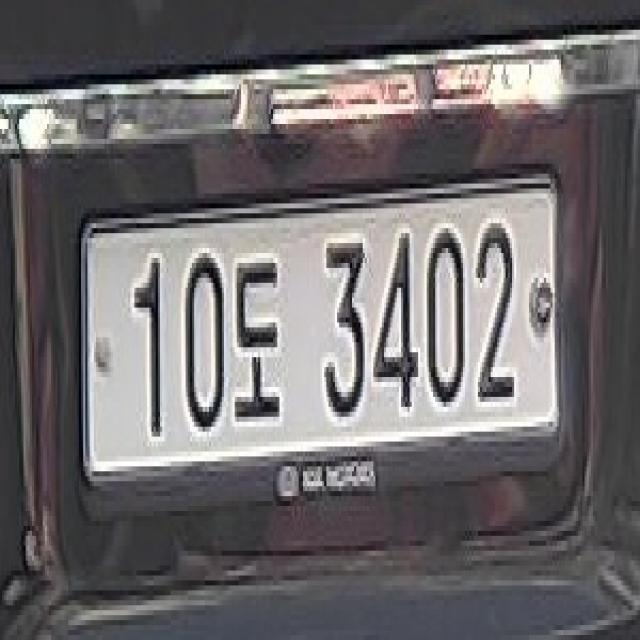0: (182, 238, 228, 435), (426, 215, 466, 424)
1: (128, 237, 172, 458)
2: (474, 214, 526, 419)
3: (318, 231, 368, 434)
4: (372, 228, 420, 428)
do: (234, 247, 299, 432)
license_plate: (78, 166, 568, 500)
